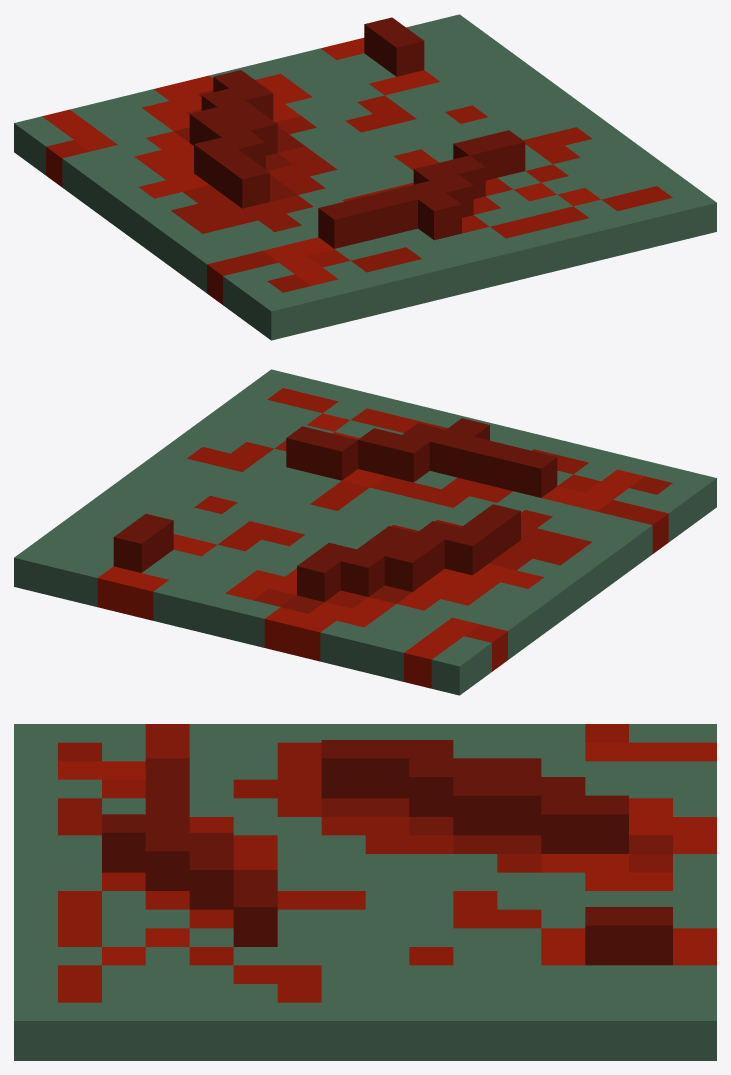
The model's file is floor_green_blood.obj.
The picture shows the model from 3 angles, top to bottom: view 1: azimuth 30°, elevation 25°; view 2: azimuth 150°, elevation 25°; view 3: azimuth 270°, elevation 25°; orthographic projection. The views are drawn at different scales.
Bounding box in the file's own units: 16 × 2 × 16.
Materials: 1 (1 with a texture image).
